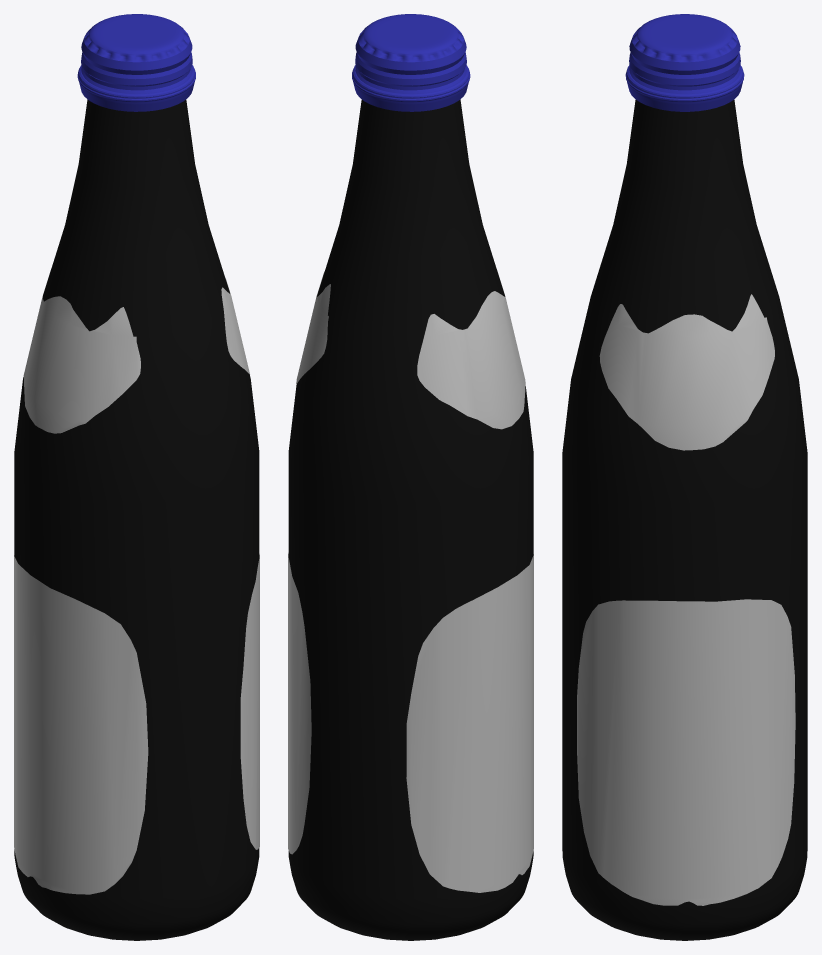
File: mate Final mit Label.fbx
The picture shows the model from 3 angles, left to right: view 1: azimuth 30°, elevation 25°; view 2: azimuth 150°, elevation 25°; view 3: azimuth 270°, elevation 25°; orthographic projection.
Visible parts, largest first — view 1: Körper, label_2, Deckel, label; view 2: Körper, label_2, Deckel, label; view 3: Körper, label, Deckel.
Boxes of the visible parts, <box> form: Körper: <box>14,99,259,940</box>; label_2: <box>14,271,148,894</box>; Deckel: <box>77,14,195,111</box>; label: <box>221,278,259,849</box>; Körper: <box>288,99,533,940</box>; label_2: <box>406,271,533,892</box>; Deckel: <box>352,14,470,111</box>; label: <box>288,272,330,854</box>; Körper: <box>562,100,807,940</box>; label: <box>577,294,795,905</box>; Deckel: <box>625,14,744,111</box>.
Size of the model in its own units: 251 by 989 by 250.
